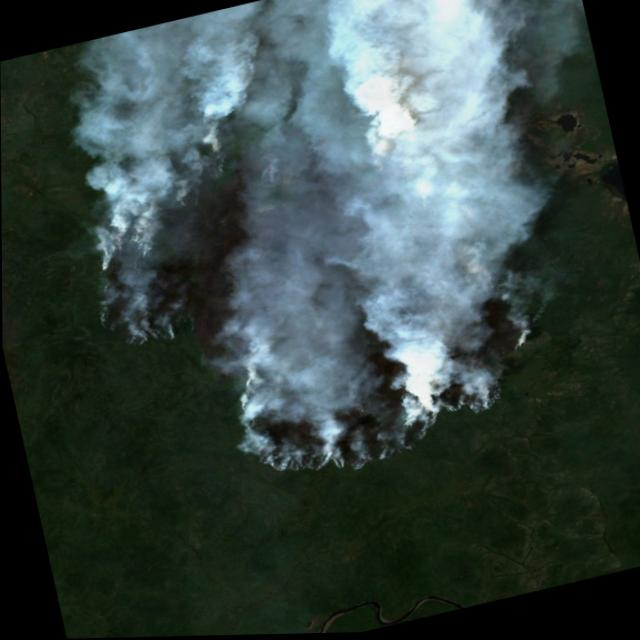fire: (56, 84, 557, 535)
